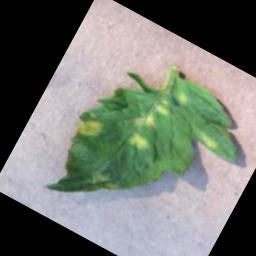Leaf_Mold: (83, 169, 122, 204), (73, 112, 105, 144), (131, 105, 161, 134), (126, 131, 152, 153), (154, 97, 174, 117), (174, 90, 190, 106), (202, 136, 219, 151)
